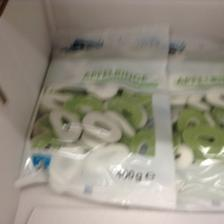Suessigkeit: (21, 26, 177, 204), (136, 58, 224, 210)
